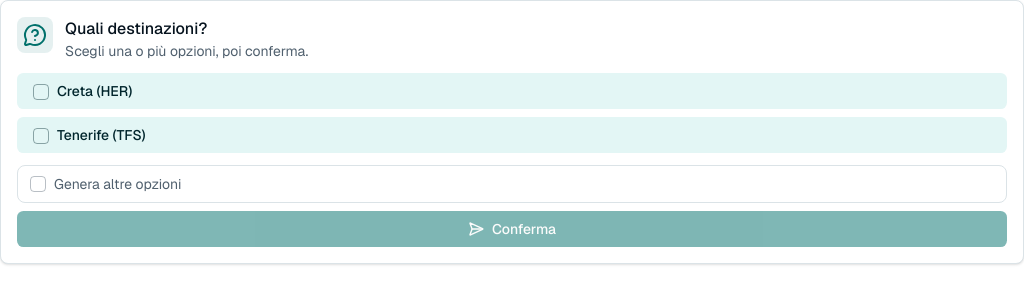
multi-select: clicking a selected option again deselects it
What coordinates should you click on to do the following:
click the button "Creta (HER)"
I would click on:
 (95, 91)
Its box is [17,73,1007,109].
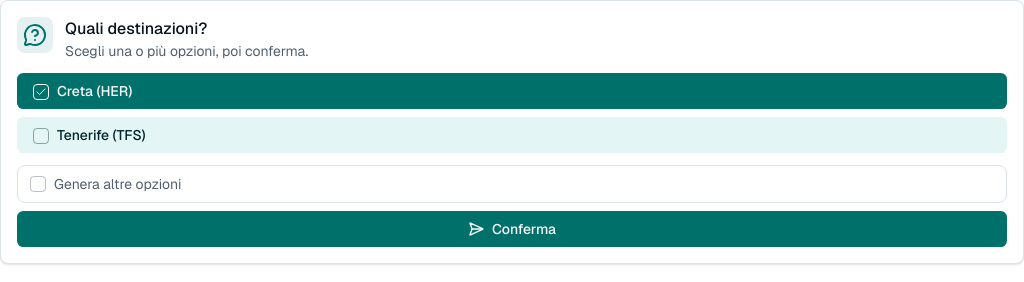
Result: the button "Creta (HER)" is pressed
What coordinates should you click on to do the following:
click the button "Creta (HER)"
I would click on:
 (95, 91)
Its box is [17,73,1007,109].
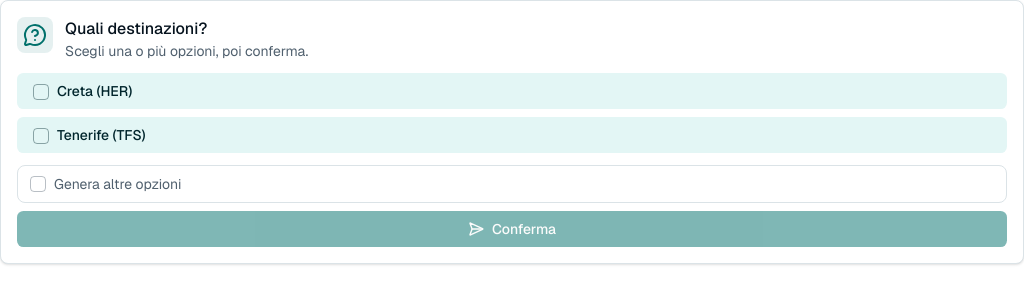
Result: the button "Conferma" is disabled at [17,211,1007,247]
